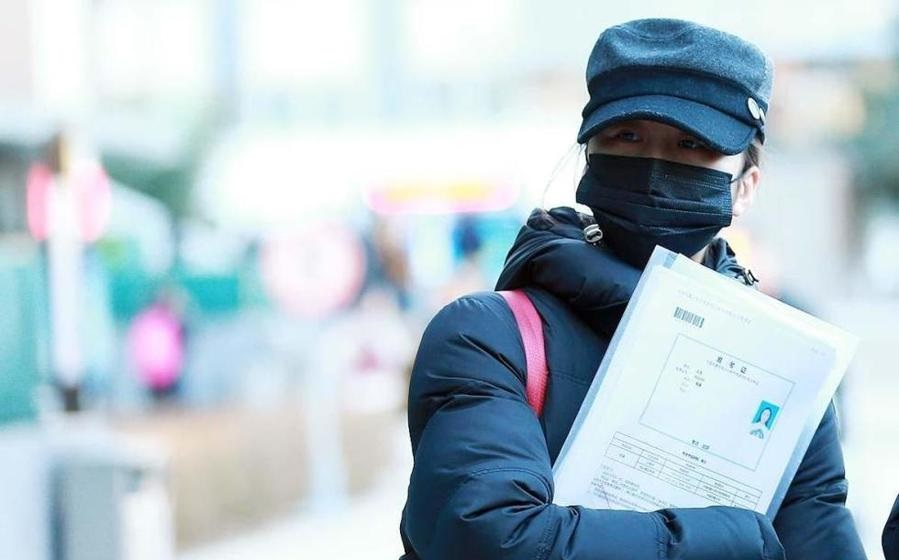face_mask: (586, 65, 743, 256)
